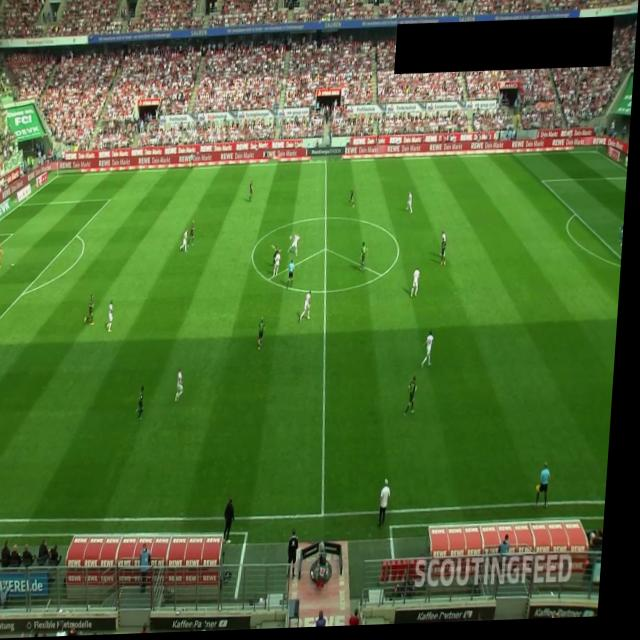goalkeeper: (0, 241, 7, 269), (622, 226, 627, 253)
player: (409, 378, 424, 421), (426, 334, 440, 372), (303, 292, 316, 325), (88, 295, 100, 327), (180, 368, 190, 404), (142, 386, 152, 421), (261, 319, 271, 353), (291, 235, 304, 259), (190, 221, 200, 250), (415, 271, 424, 301), (111, 301, 119, 333), (443, 241, 451, 270), (183, 231, 193, 254), (364, 244, 371, 274), (277, 254, 285, 279), (443, 234, 450, 260), (250, 181, 257, 205), (409, 194, 416, 217), (276, 247, 283, 270), (351, 191, 358, 210)
referee: (542, 466, 559, 512), (291, 260, 299, 292), (190, 154, 197, 172)
